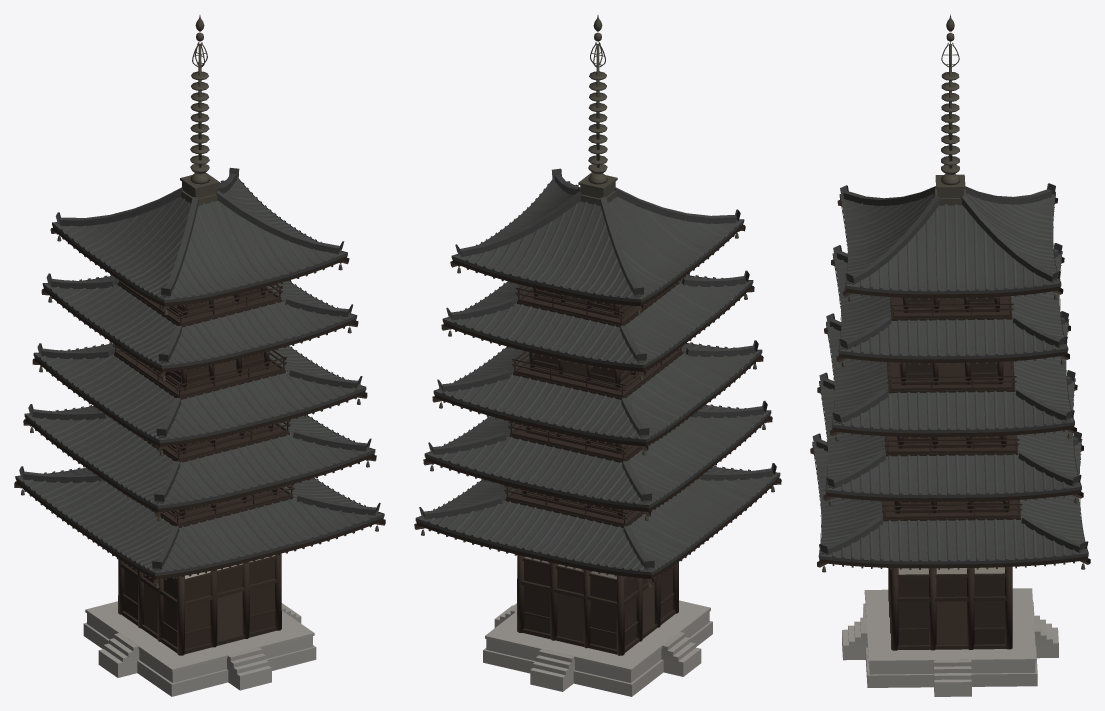
Rendered from pagoda.glb.
3 views of the same model, side by side, from view 1: azimuth 30°, elevation 25°; view 2: azimuth 150°, elevation 25°; view 3: azimuth 270°, elevation 25° (orthographic).
Parts seen in each view (by area): view 1: Yasaka_S5_Roof, Yasaka_S1_Roof, Yasaka_S2_Roof, Yasaka_S3_Roof, Yasaka_S4_Roof, Yasaka_S1_Body, Yasaka_Platform, Yasaka_Sorin, Yasaka_S4_Balcony, Yasaka_S5_Balcony, Yasaka_S1_Rafters, Yasaka_S2_Rafters (+7 smaller); view 2: Yasaka_S5_Roof, Yasaka_S1_Roof, Yasaka_S2_Roof, Yasaka_S3_Roof, Yasaka_S4_Roof, Yasaka_S1_Body, Yasaka_Platform, Yasaka_Sorin, Yasaka_S4_Balcony, Yasaka_S5_Balcony, Yasaka_S2_Balcony, Yasaka_S1_Rafters (+9 smaller); view 3: Yasaka_S5_Roof, Yasaka_S1_Roof, Yasaka_S2_Roof, Yasaka_S3_Roof, Yasaka_S4_Roof, Yasaka_Platform, Yasaka_S1_Body, Yasaka_Sorin, Yasaka_S4_Balcony, Yasaka_S4_Body, Yasaka_S2_Balcony, Yasaka_S3_Balcony (+9 smaller).
Boxes of the visible parts, x1,y1,x2,y2 form: Yasaka_S5_Roof: (52,167,347,302); Yasaka_S1_Roof: (15,466,384,575); Yasaka_S2_Roof: (24,404,375,508); Yasaka_S3_Roof: (33,342,366,443); Yasaka_S4_Roof: (42,273,357,368); Yasaka_S1_Body: (118,553,281,655); Yasaka_Platform: (83,601,316,696); Yasaka_Sorin: (180,15,219,205); Yasaka_S4_Balcony: (113,344,286,399); Yasaka_S5_Balcony: (117,280,282,327); Yasaka_S1_Rafters: (14,479,385,588); Yasaka_S2_Rafters: (23,417,376,521); Yasaka_S5_Roof: (451,168,744,302); Yasaka_S1_Roof: (415,463,780,575); Yasaka_S2_Roof: (424,400,771,508); Yasaka_S3_Roof: (433,340,762,442); Yasaka_S4_Roof: (442,270,753,368); Yasaka_S1_Body: (517,554,678,655); Yasaka_Platform: (483,600,712,696); Yasaka_Sorin: (578,15,617,205); Yasaka_S4_Balcony: (512,345,683,399); Yasaka_S5_Balcony: (515,281,679,327); Yasaka_S2_Balcony: (504,485,644,528); Yasaka_S1_Rafters: (414,477,781,587); Yasaka_S5_Roof: (839,183,1061,294); Yasaka_S1_Roof: (812,431,1088,564); Yasaka_S2_Roof: (819,370,1081,498); Yasaka_S3_Roof: (826,311,1074,433); Yasaka_S4_Roof: (832,243,1068,359); Yasaka_Platform: (842,588,1058,696); Yasaka_S1_Body: (888,567,1012,650); Yasaka_Sorin: (935,14,965,205); Yasaka_S4_Balcony: (887,361,1016,393); Yasaka_S4_Body: (899,361,1003,385); Yasaka_S2_Balcony: (882,500,1022,521); Yasaka_S3_Balcony: (884,435,1019,456).
Size of what is drawn, in the model's own units: 15.73 by 39.45 by 15.73.
